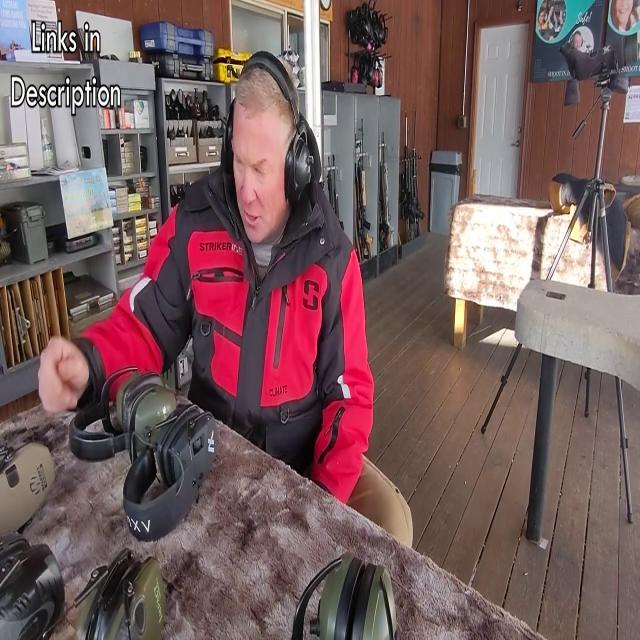earmuff: (282, 120, 317, 211), (218, 100, 238, 180)
